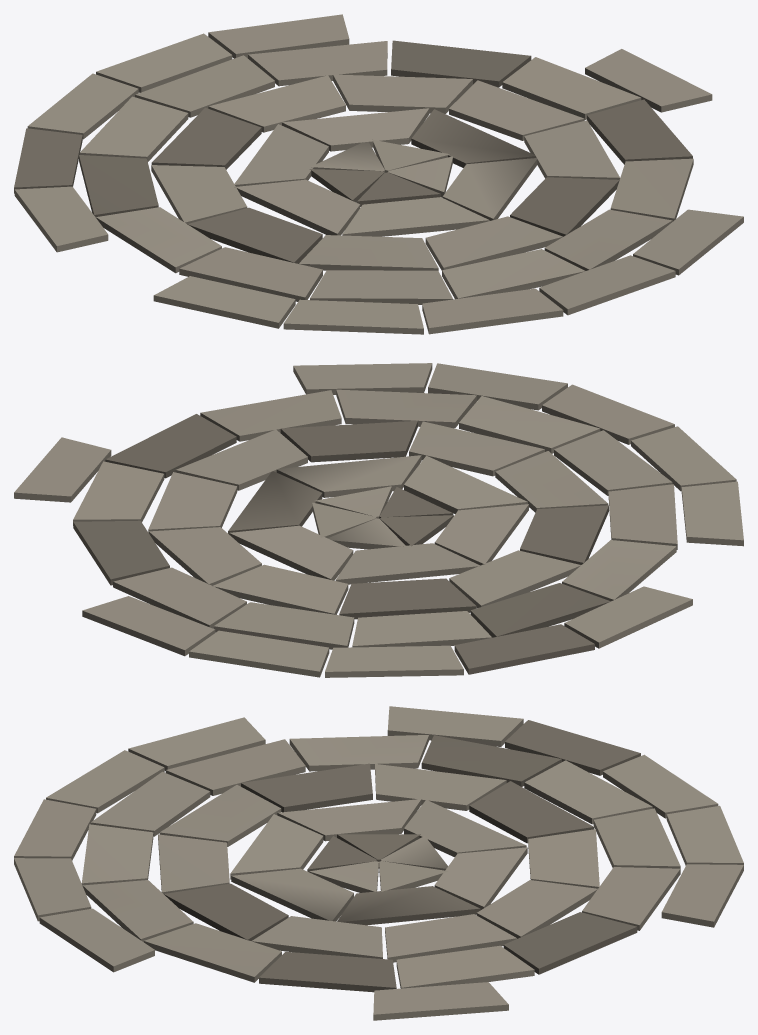
File: gh_plaza.glb
3 renders of one model, top to bottom at view 1: azimuth 30°, elevation 25°; view 2: azimuth 150°, elevation 25°; view 3: azimuth 270°, elevation 25°, orthographic. The views are drawn at different scales.
Visible parts, largest first — view 1: gh_plaza; view 2: gh_plaza; view 3: gh_plaza.
Part boxes in pixels (x1,y1,x2,y2): gh_plaza: (14, 14, 743, 334); gh_plaza: (14, 363, 743, 677); gh_plaza: (14, 706, 743, 1020).
Size of the model in its own units: 15.08 by 0.1396 by 15.08.
